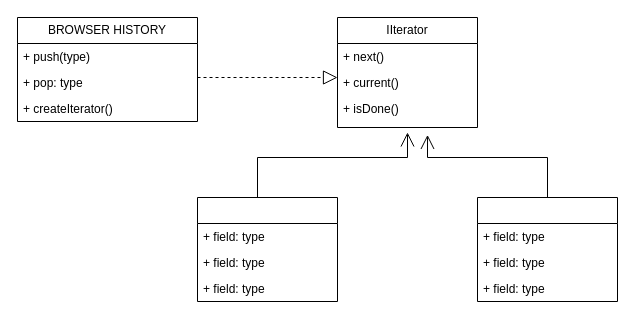
This 635x322 diagram has some shape labels left out. Each missing label, with the box of its shape:
Array Iterator: (476, 196, 618, 302)
List Iterator: (196, 196, 338, 302)
